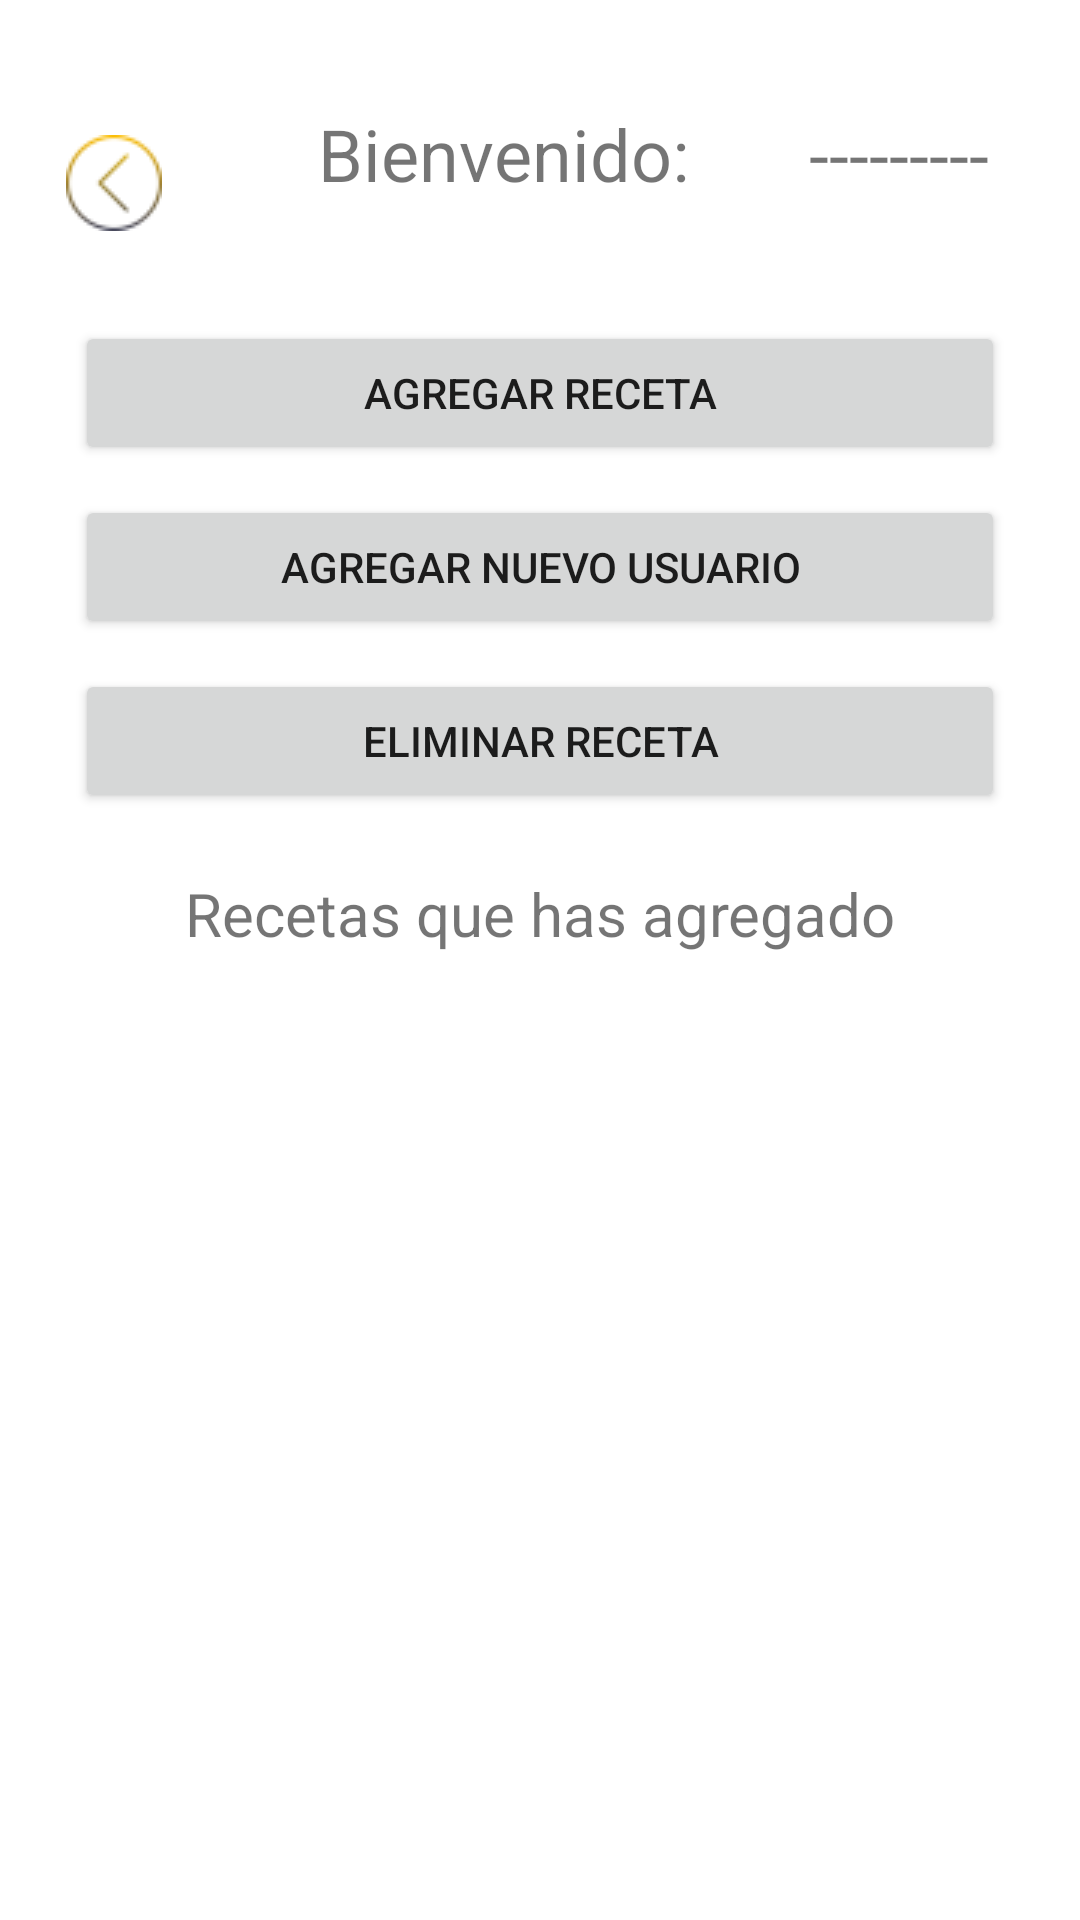

Where to tap for icons on this 1080 × 1920 app screen, as point (x, y):
regreso: point (114, 183)
